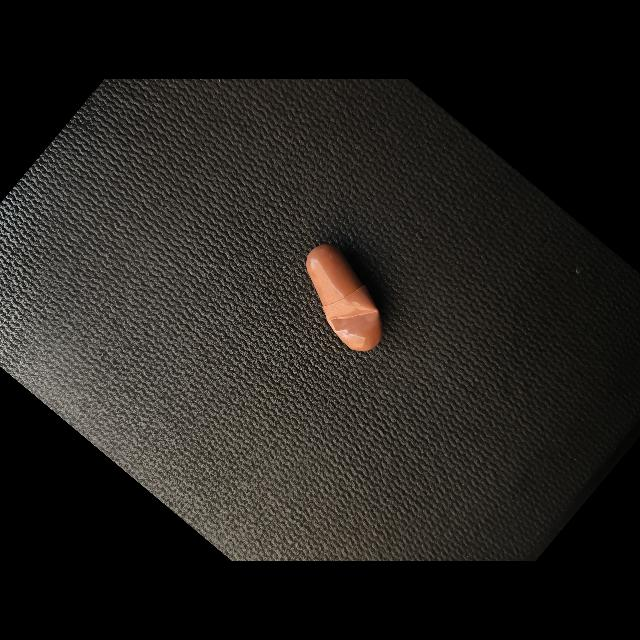Defective Capsule: (329, 299, 380, 340)
